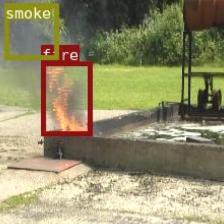fire: (40, 60, 92, 135)
smoke: (4, 3, 58, 59)
